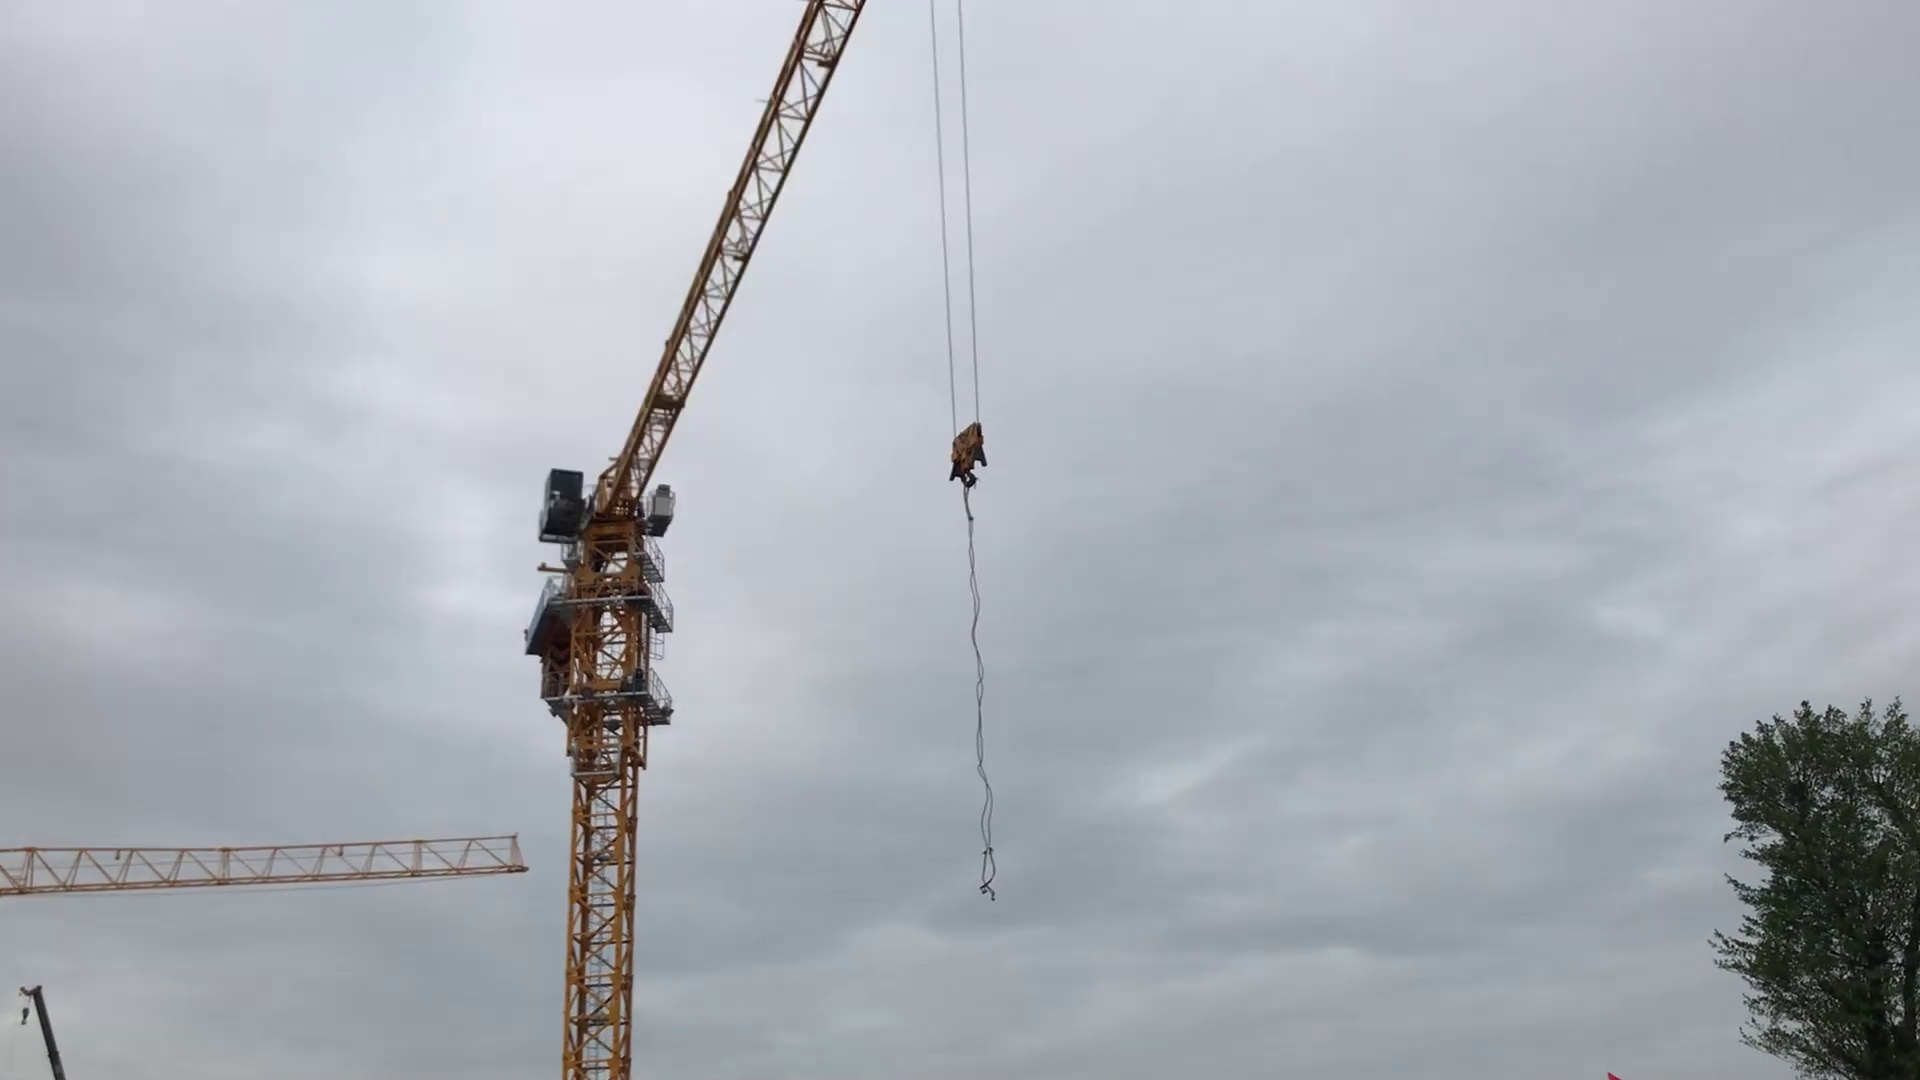hook: (931, 407, 997, 497)
